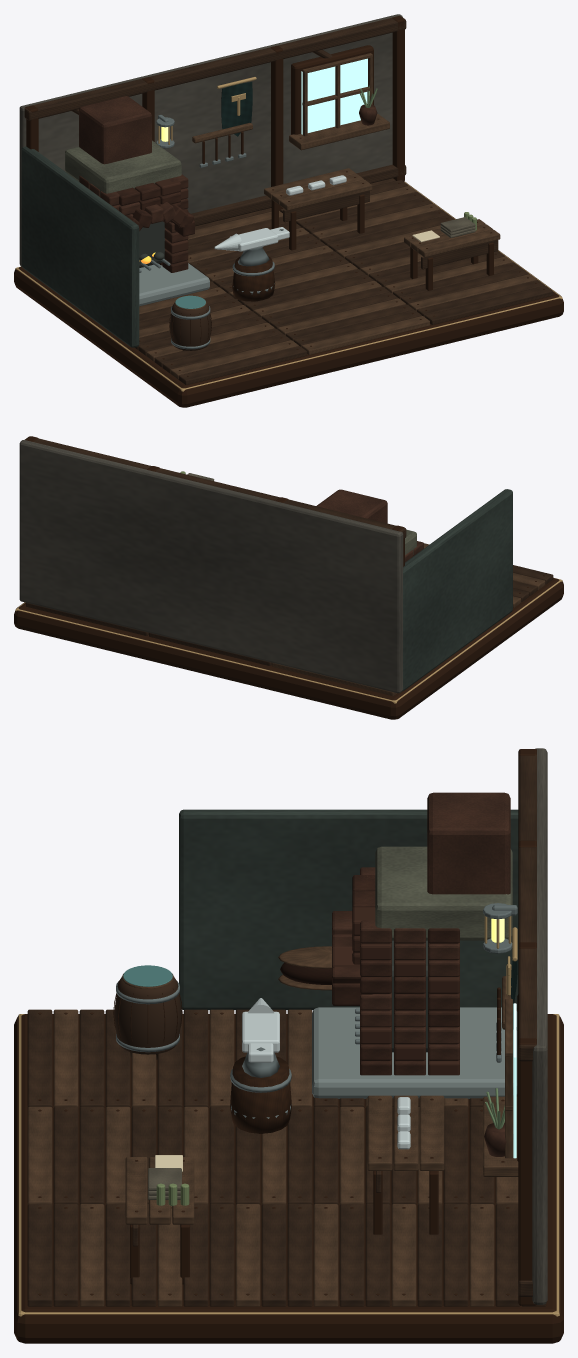
The model's file is forge.glb.
The picture shows the model from 3 angles, top to bottom: view 1: azimuth 30°, elevation 25°; view 2: azimuth 150°, elevation 25°; view 3: azimuth 270°, elevation 25°; orthographic projection. The views are drawn at different scales.
Visible parts, largest first — view 1: Environment_Oak honey, Environment_Oak end grain, Environment_Oak cut edge, Environment_Warm lime plaster, Environment_Sage plaster, Environment_Fired brick 3, Environment_Carved limestone, Environment_Window sky, Environment_Charcoal slate, Environment_Aged brass, Environment_Blackened iron, Environment_Steel (+7 smaller); view 2: Environment_Warm lime plaster, Environment_Sage plaster, Environment_Oak end grain, Environment_Oak honey, Environment_Fired brick 3, Environment_Aged brass, Environment_Oak cut edge; view 3: Environment_Oak honey, Environment_Oak cut edge, Environment_Oak end grain, Environment_Sage plaster, Environment_Fired brick 3, Environment_Charcoal slate, Environment_Carved limestone, Environment_Warm lime plaster, Environment_Aged brass, Environment_Fired brick 2, Environment_Fired brick 0, Environment_Fired brick 1 (+6 smaller).
Boxes of the visible parts, x1=… form: Environment_Oak honey: x1=24, y1=15, x2=553, y2=384; Environment_Oak end grain: x1=14, y1=16, x2=563, y2=407; Environment_Oak cut edge: x1=139, y1=53, x2=536, y2=379; Environment_Warm lime plaster: x1=19, y1=14, x2=402, y2=266; Environment_Sage plaster: x1=21, y1=146, x2=139, y2=347; Environment_Fired brick 3: x1=79, y1=96, x2=188, y2=243; Environment_Carved limestone: x1=65, y1=140, x2=181, y2=195; Environment_Window sky: x1=301, y1=58, x2=367, y2=134; Environment_Charcoal slate: x1=139, y1=263, x2=209, y2=306; Environment_Aged brass: x1=15, y1=77, x2=562, y2=391; Environment_Blackened iron: x1=139, y1=114, x2=283, y2=349; Environment_Steel: x1=214, y1=175, x2=346, y2=251; Environment_Warm lime plaster: x1=19, y1=440, x2=403, y2=693; Environment_Sage plaster: x1=402, y1=489, x2=512, y2=691; Environment_Oak end grain: x1=14, y1=436, x2=563, y2=719; Environment_Oak honey: x1=24, y1=436, x2=553, y2=665; Environment_Fired brick 3: x1=316, y1=489, x2=423, y2=555; Environment_Aged brass: x1=15, y1=578, x2=562, y2=703; Environment_Oak cut edge: x1=272, y1=543, x2=545, y2=695; Environment_Oak honey: x1=27, y1=749, x2=546, y2=1306; Environment_Oak cut edge: x1=27, y1=946, x2=518, y2=1306; Environment_Oak end grain: x1=14, y1=749, x2=563, y2=1343; Environment_Sage plaster: x1=179, y1=809, x2=518, y2=1010; Environment_Fired brick 3: x1=332, y1=792, x2=510, y2=1060; Environment_Charcoal slate: x1=312, y1=1007, x2=517, y2=1098; Environment_Carved limestone: x1=375, y1=846, x2=512, y2=940; Environment_Warm lime plaster: x1=532, y1=748, x2=547, y2=1304; Environment_Aged brass: x1=18, y1=915, x2=559, y2=1316; Environment_Fired brick 2: x1=332, y1=907, x2=513, y2=1156; Environment_Fired brick 0: x1=332, y1=875, x2=459, y2=1075; Environment_Fired brick 1: x1=332, y1=891, x2=459, y2=1075.
Size of the model in its own units: 7.2 by 3.31 by 5.5.
Materials: 28 (14 with a texture image).
